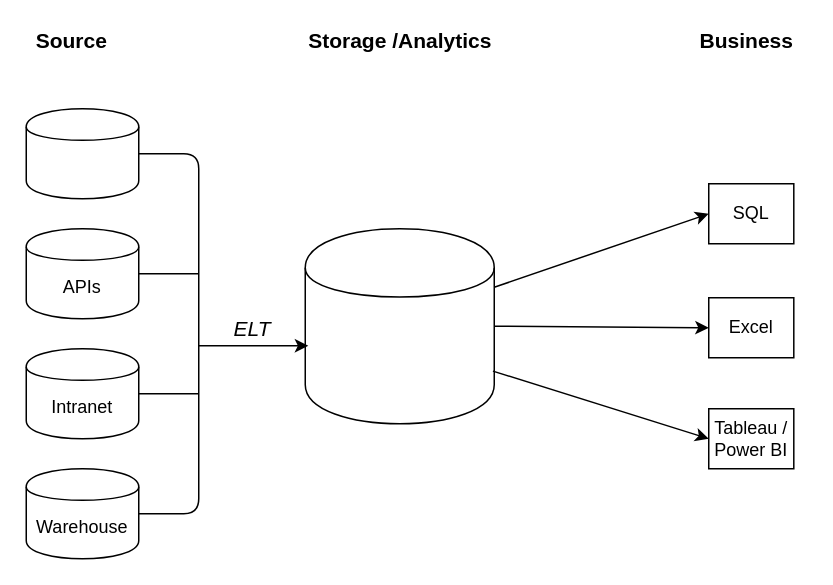
Image size: 833x585. Some labels were removed from this diagram. The shapes that lost their labels are listed below. From the top down, each one's box as (x1, y1, x2, y2) in pixels, then its label:
(25, 107, 139, 199): CRM
(304, 227, 494, 424): Data Warehouse
